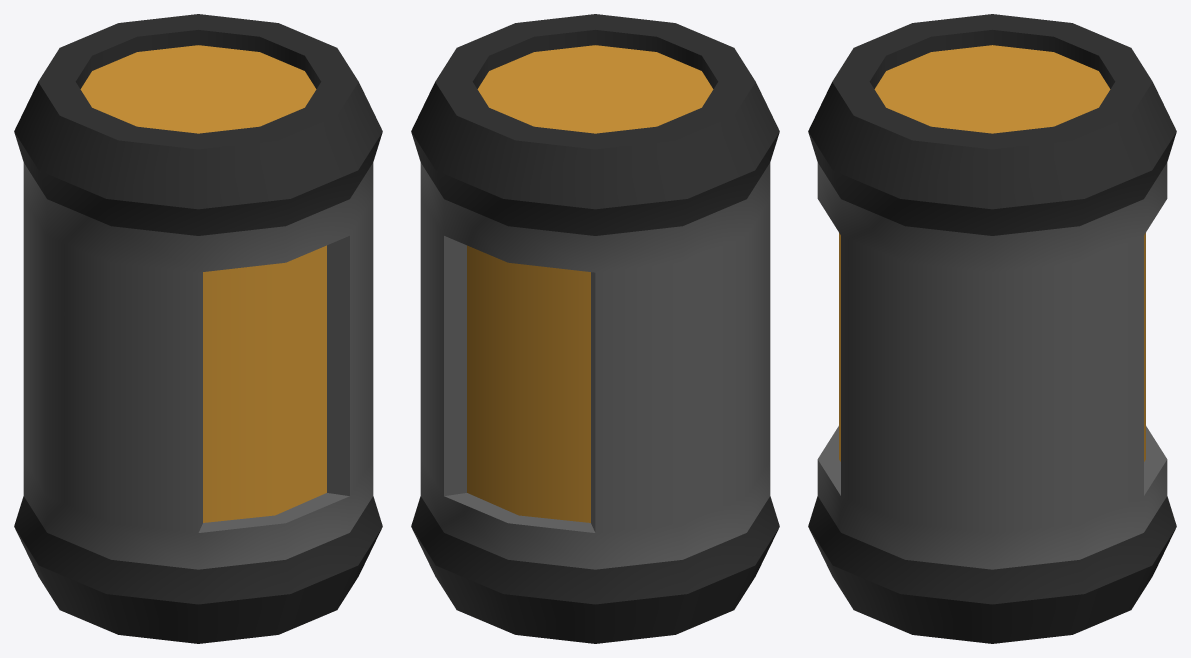
The model's file is jar.glb.
3 views of the same model, side by side, from view 1: azimuth 30°, elevation 25°; view 2: azimuth 150°, elevation 25°; view 3: azimuth 270°, elevation 25° (orthographic).
Parts seen in each view (by area): view 1: Pickup_Jar; view 2: Pickup_Jar; view 3: Pickup_Jar.
Part boxes in pixels (x1=…): Pickup_Jar: x1=14, y1=14, x2=382, y2=643; Pickup_Jar: x1=411, y1=14, x2=779, y2=643; Pickup_Jar: x1=808, y1=14, x2=1176, y2=643.
Bounding box in the file's own units: 0.6919 × 1.02 × 0.6919.
